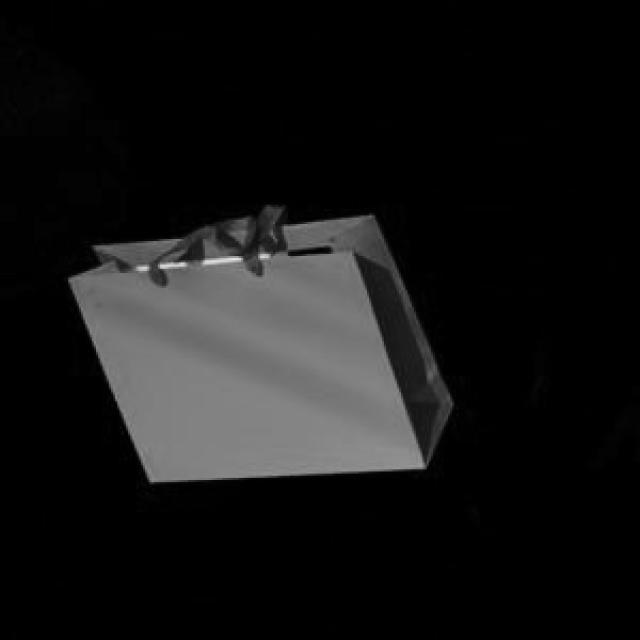paper: (64, 201, 448, 478)
